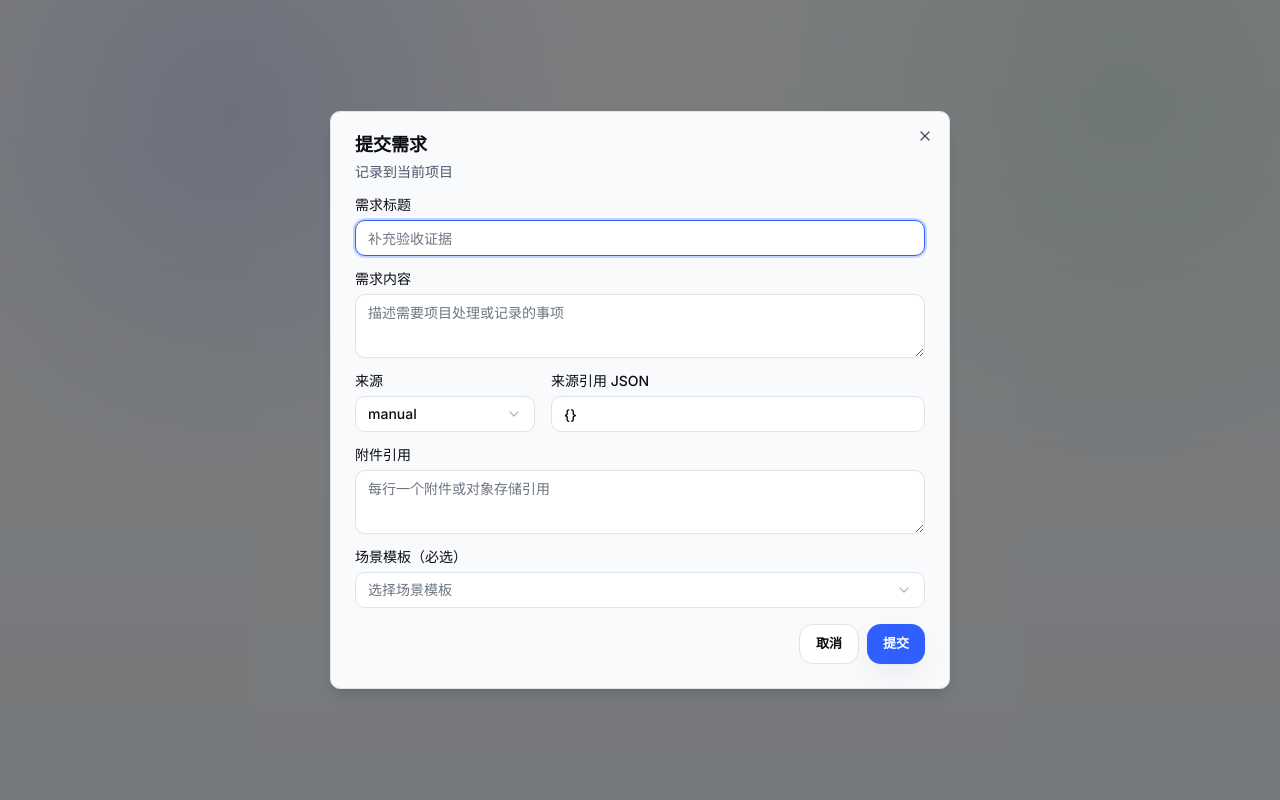
SubmitDemandDialog › offers an active scenario template select and defaults to unbound
Click the dropdown labelled "选择场景模板": (410, 590) left=355, top=572, right=925, bottom=608
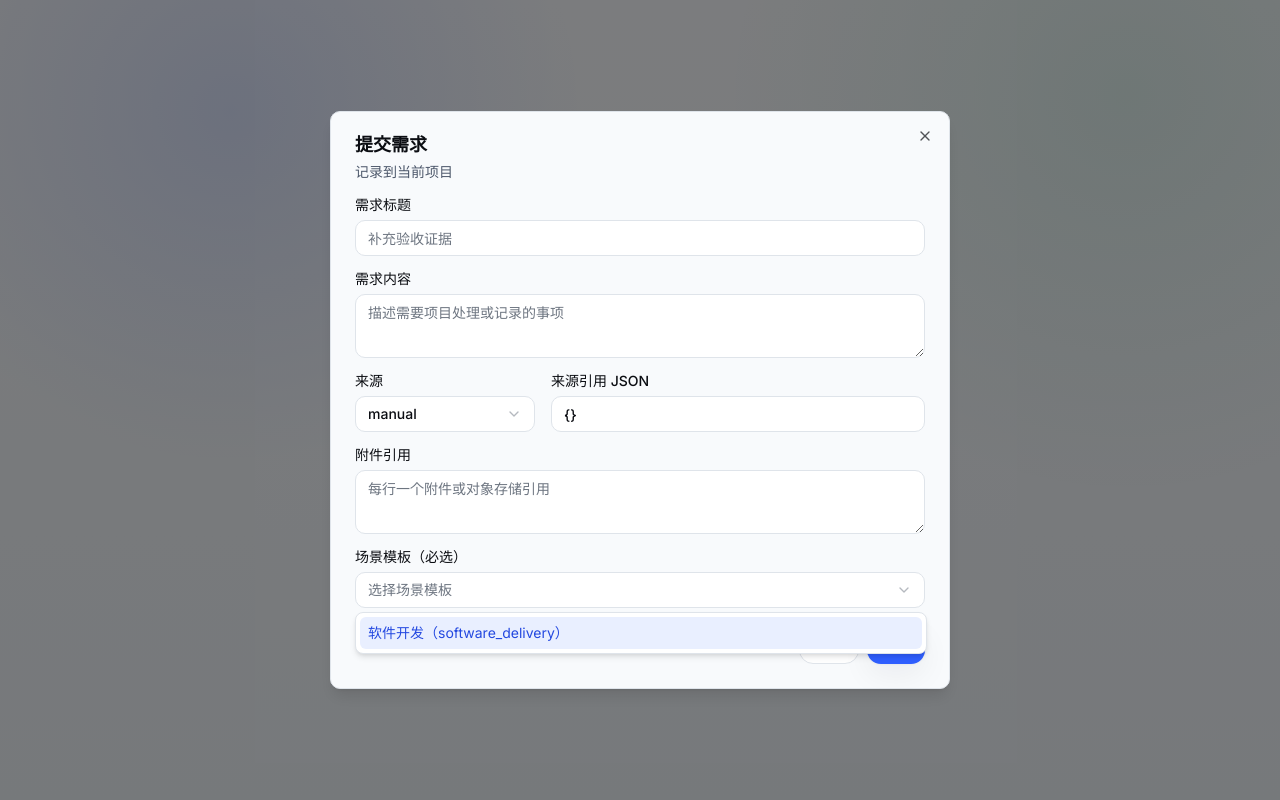
Expected: the option "软件开发（software_delivery）" is shown, left=360, top=617, right=922, bottom=649
